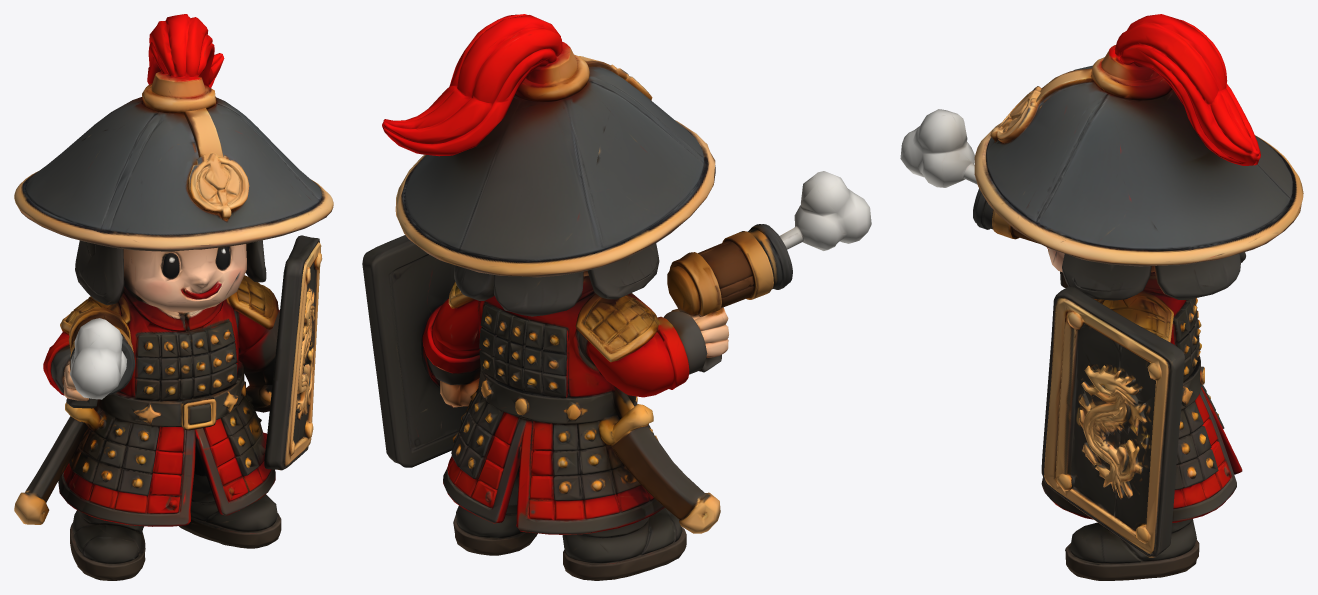
The model's file is child-ming-p-budget50.glb.
The picture shows the model from 3 angles, left to right: view 1: azimuth 30°, elevation 25°; view 2: azimuth 150°, elevation 25°; view 3: azimuth 270°, elevation 25°; orthographic projection. The views are drawn at different scales.
Parts seen in each view (by area): view 1: node_0; view 2: node_0; view 3: node_0.
Part boxes in pixels (x1,y1,x2,y2): node_0: [14, 14, 333, 580]; node_0: [362, 14, 871, 580]; node_0: [900, 14, 1303, 580].
Size of the model in its own units: 0.8208 by 1.09 by 0.7508.
1 material, 1 textured.
